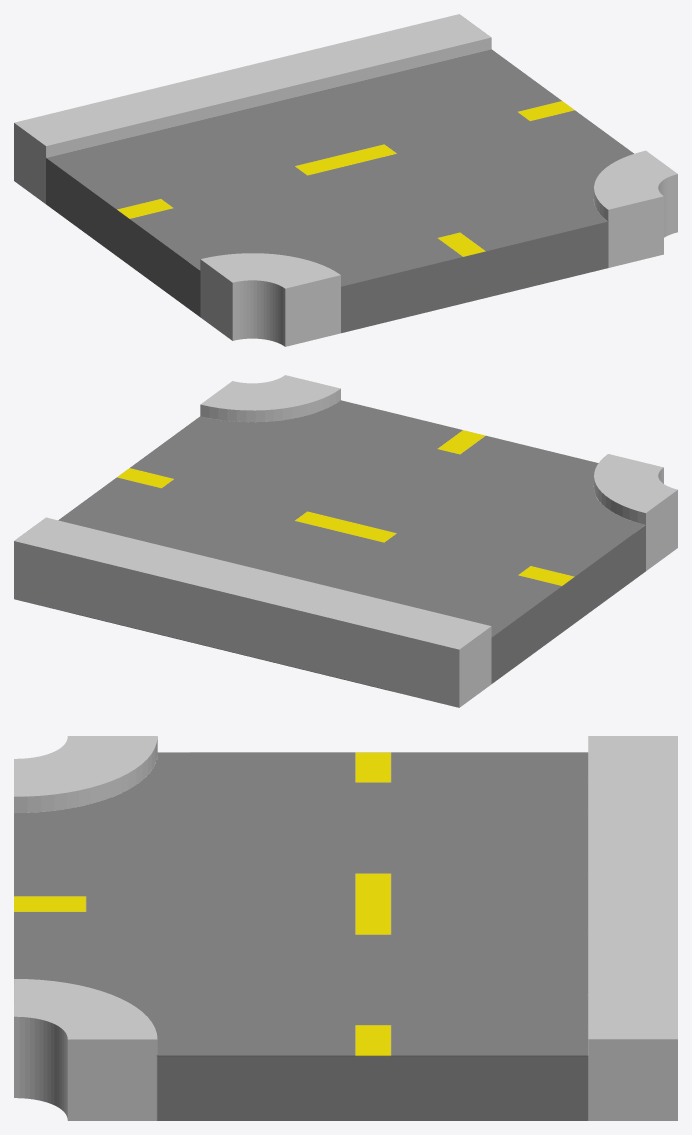
File: road_3way.fbx
3 views of the same model, one above another, from view 1: azimuth 30°, elevation 25°; view 2: azimuth 150°, elevation 25°; view 3: azimuth 270°, elevation 25° (orthographic). The views are drawn at different scales.
Parts seen in each view (by area): view 1: Cube.003; view 2: Cube.003; view 3: Cube.003.
Part boxes in pixels (x1,y1,x2,y2): Cube.003: (14, 14, 677, 346); Cube.003: (14, 375, 677, 707); Cube.003: (14, 736, 677, 1120).
Bounding box in the file's own units: 200 × 25 × 185.
